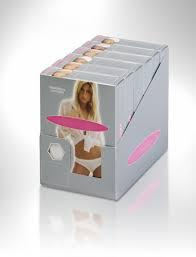Cardboard: (32, 17, 172, 202)
